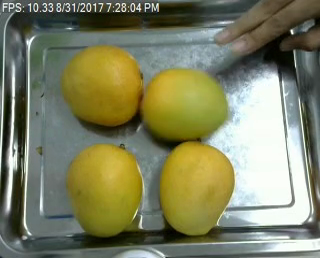Mango: (157, 141, 235, 235), (65, 143, 142, 236), (62, 44, 144, 128), (139, 68, 227, 140)
